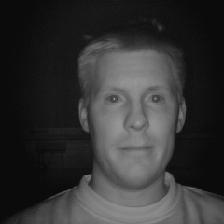normal: (66, 19, 198, 201)
